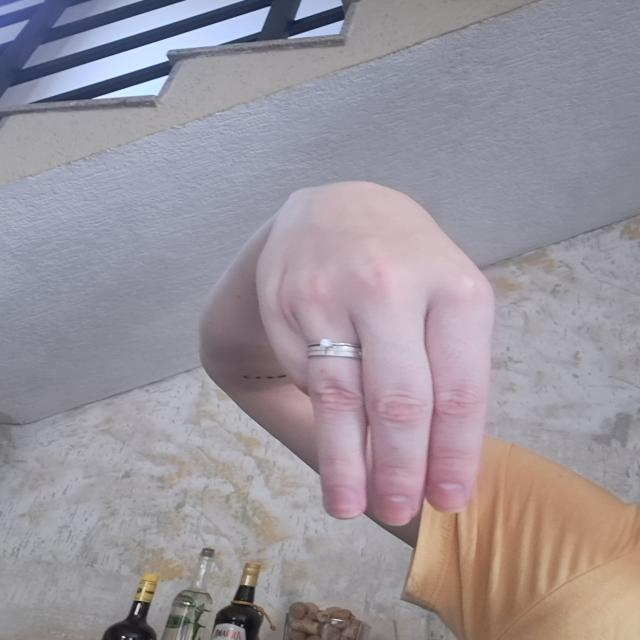M: (258, 161, 504, 525)
